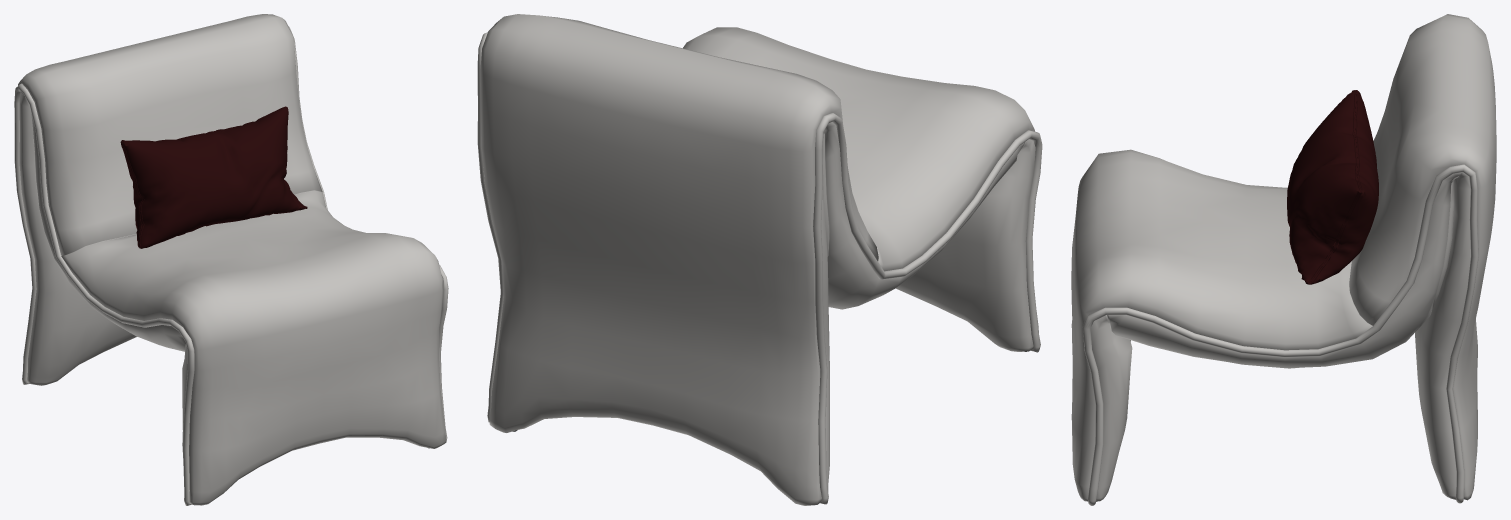
The model's file is FBX_Corona.FBX.
3 renders of one model, left to right at view 1: azimuth 30°, elevation 25°; view 2: azimuth 150°, elevation 25°; view 3: azimuth 270°, elevation 25°, orthographic. The views are drawn at different scales.
Visible parts, largest first — view 1: Chair, Pillow; view 2: Chair; view 3: Chair, Pillow.
Part boxes in pixels (x1,y1,x2,y2): Chair: [14, 14, 448, 505]; Pillow: [120, 106, 307, 248]; Chair: [477, 14, 1042, 505]; Chair: [1071, 14, 1496, 505]; Pillow: [1287, 90, 1378, 284].
Bounding box in the file's own units: 673 × 762 × 820.
